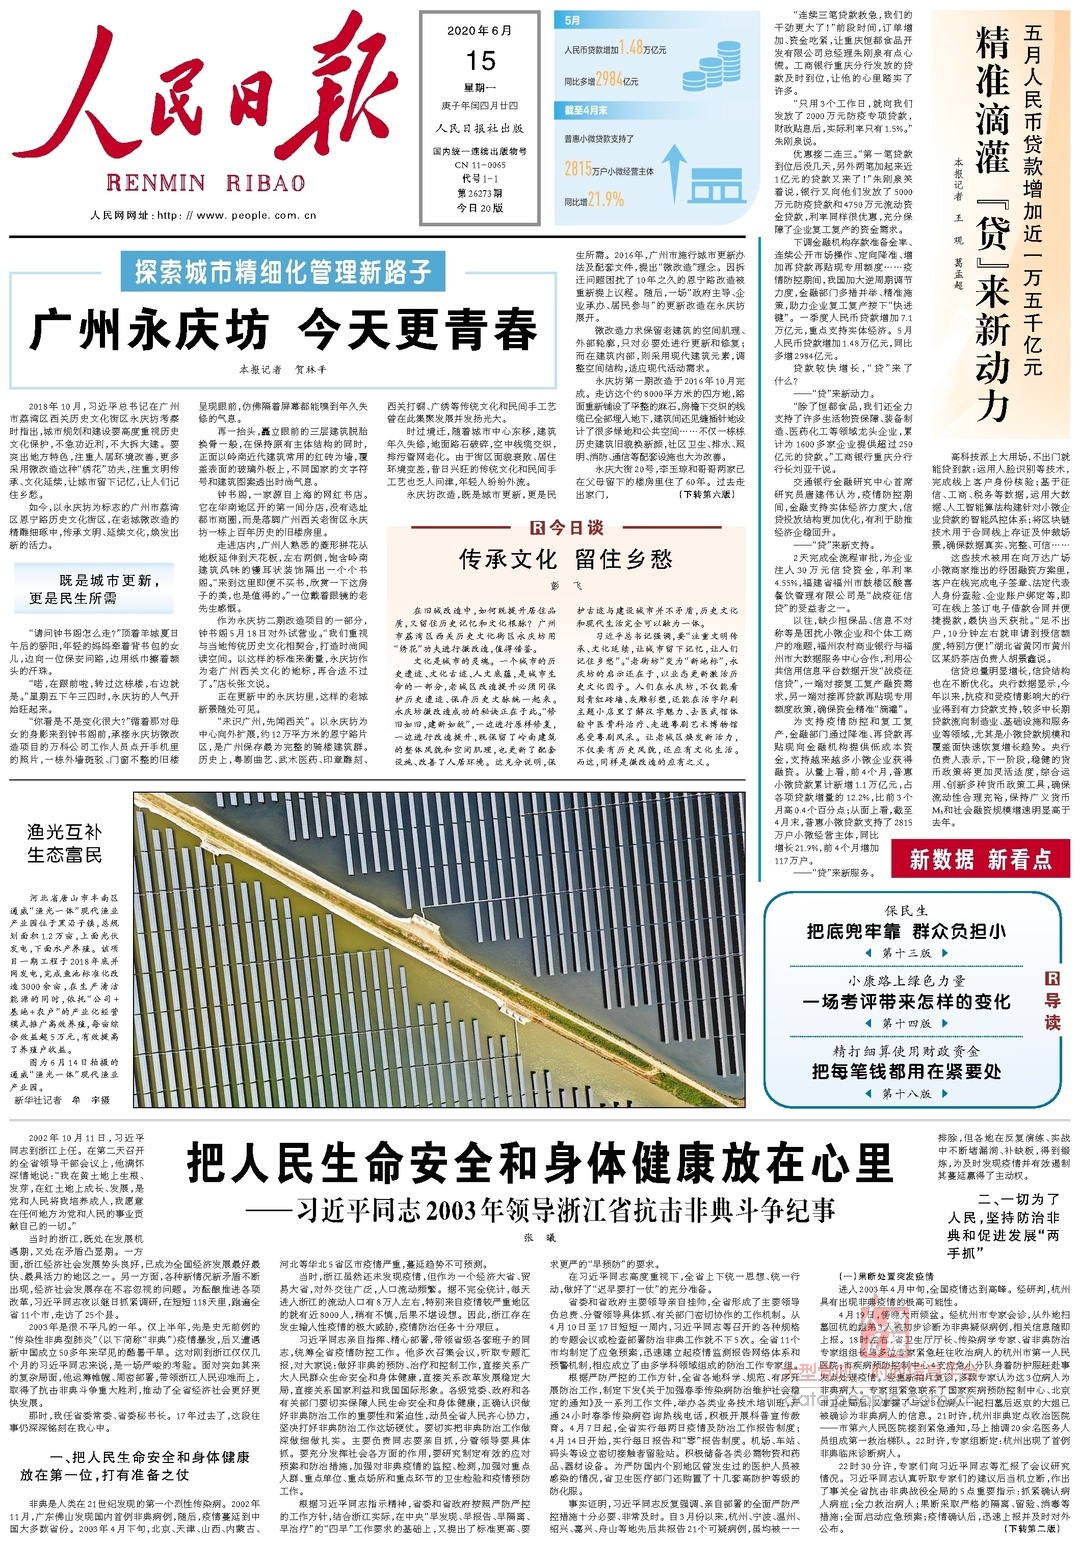pic: (129, 786, 752, 1112)
